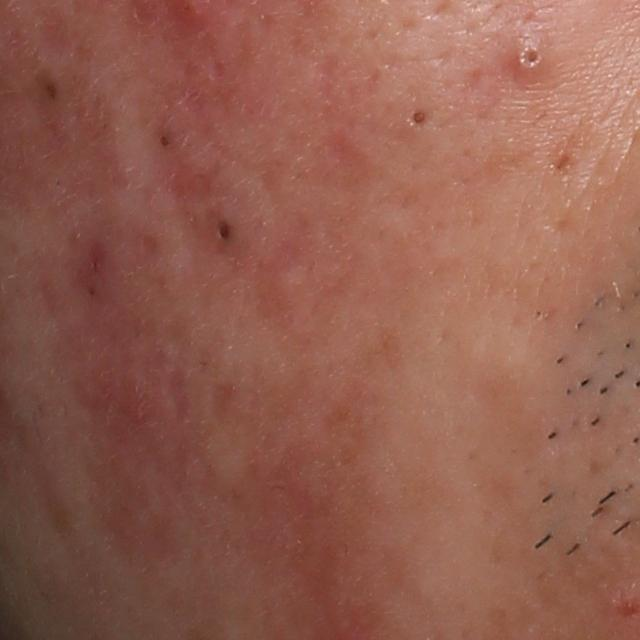comedo: (404, 104, 435, 132), (215, 220, 234, 245), (157, 128, 175, 149)
papule: (511, 36, 556, 84)
